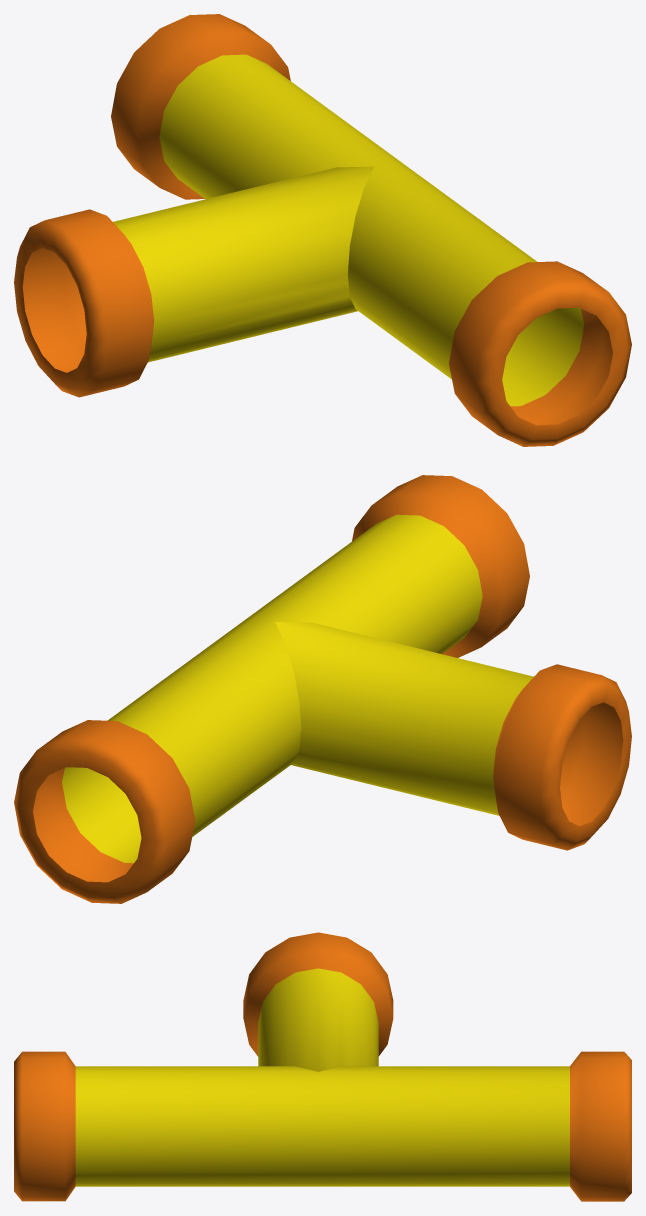
File: pipe_c.fbx
3 renders of one model, top to bottom at view 1: azimuth 30°, elevation 25°; view 2: azimuth 150°, elevation 25°; view 3: azimuth 270°, elevation 25°, orthographic. The views are drawn at different scales.
Parts seen in each view (by area): view 1: pipe_s_c_01.002; view 2: pipe_s_c_01.002; view 3: pipe_s_c_01.002.
Part boxes in pixels (<box>): pipe_s_c_01.002: <box>14,14,631,446</box>; pipe_s_c_01.002: <box>14,475,631,903</box>; pipe_s_c_01.002: <box>14,932,631,1201</box>.
Size of the model in its own units: 62.58 by 24.61 by 101.
